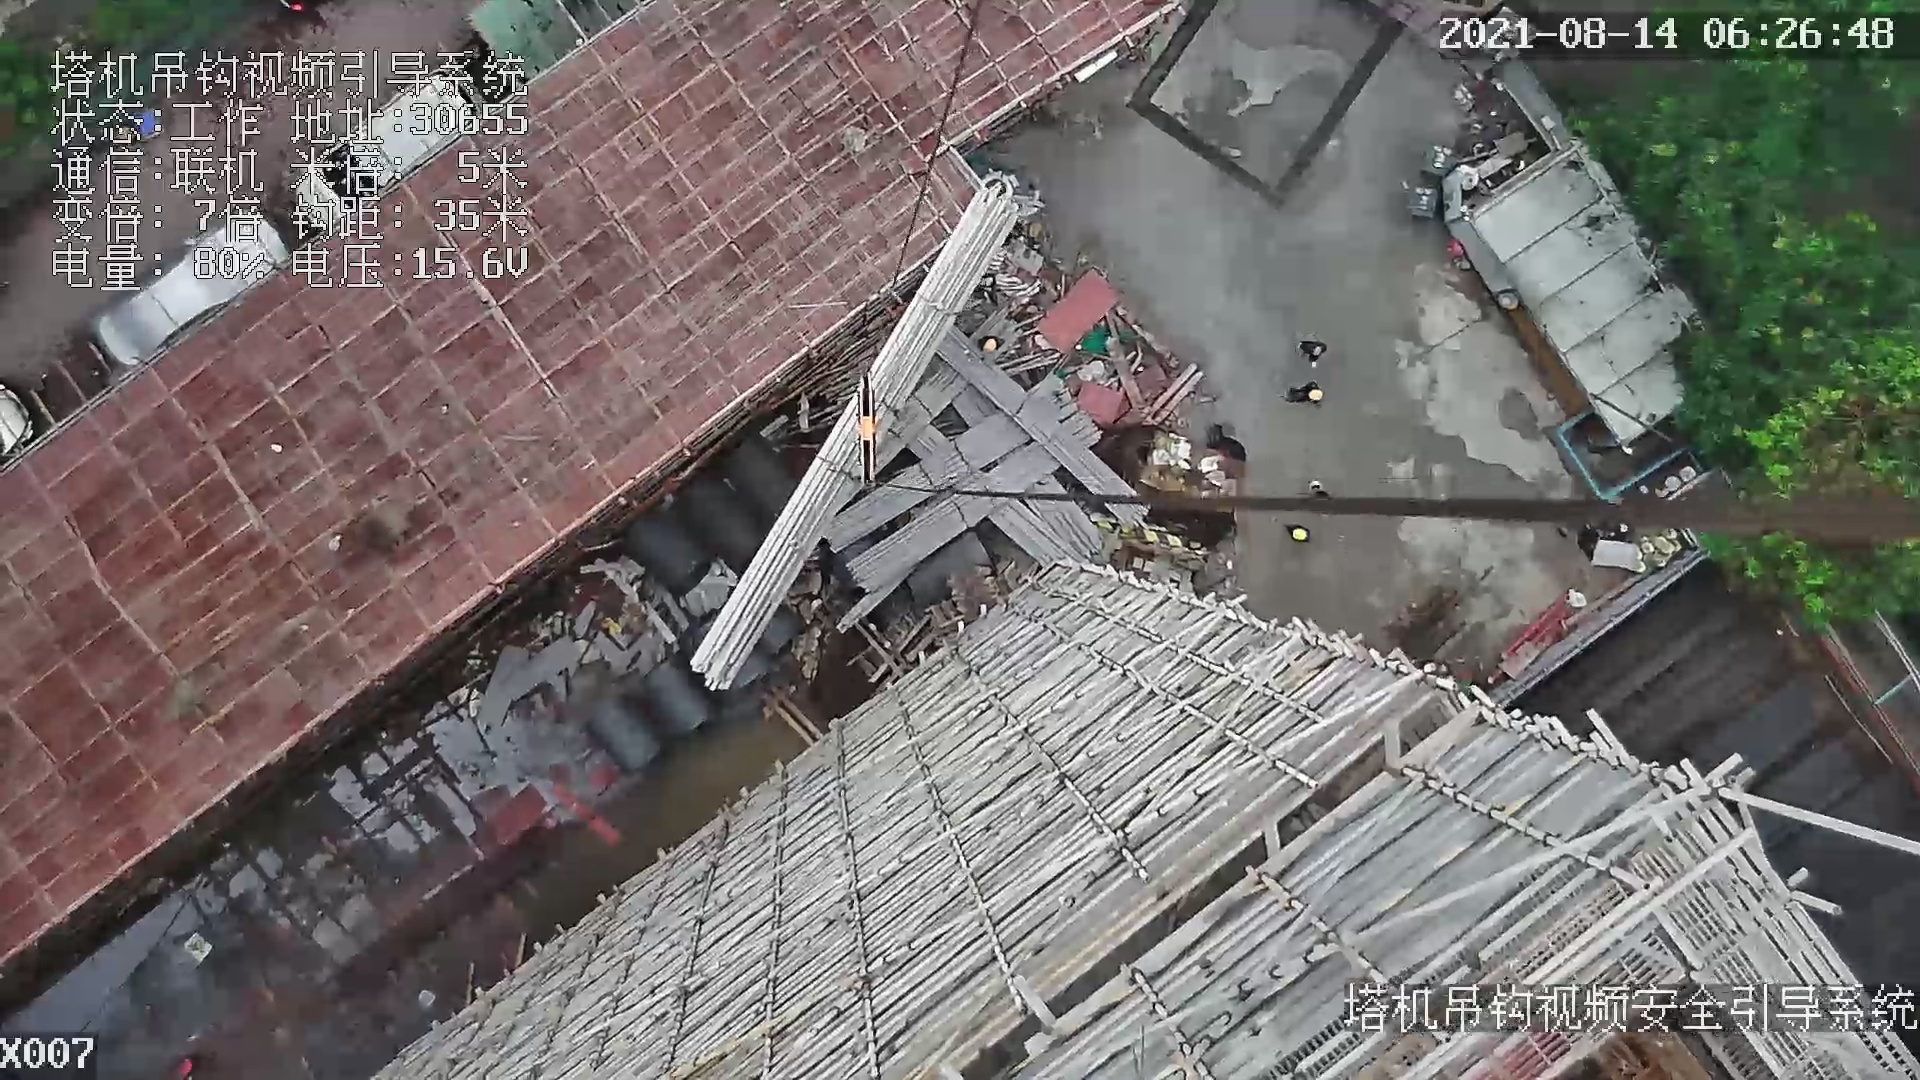helmet: (1292, 525, 1306, 539), (1309, 388, 1322, 401)
hook: (850, 371, 891, 494)
person: (1294, 330, 1329, 371), (1287, 377, 1322, 413), (1287, 517, 1314, 541)
